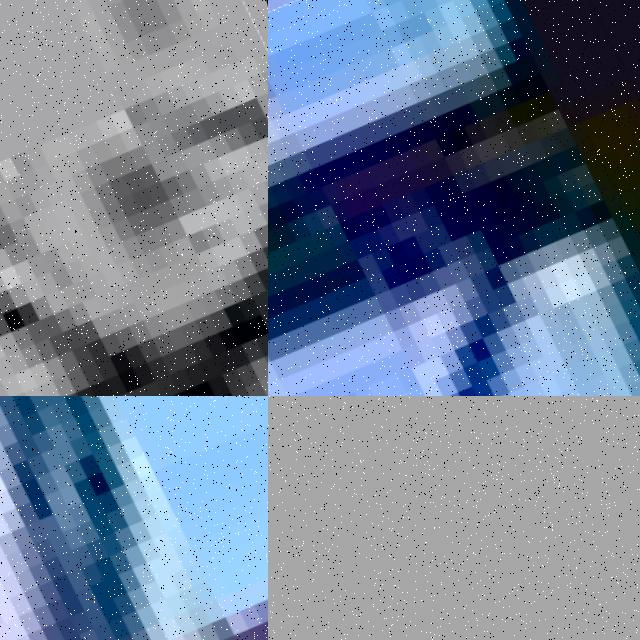drone: (268, 0, 640, 396), (0, 0, 268, 396), (0, 396, 268, 640)
